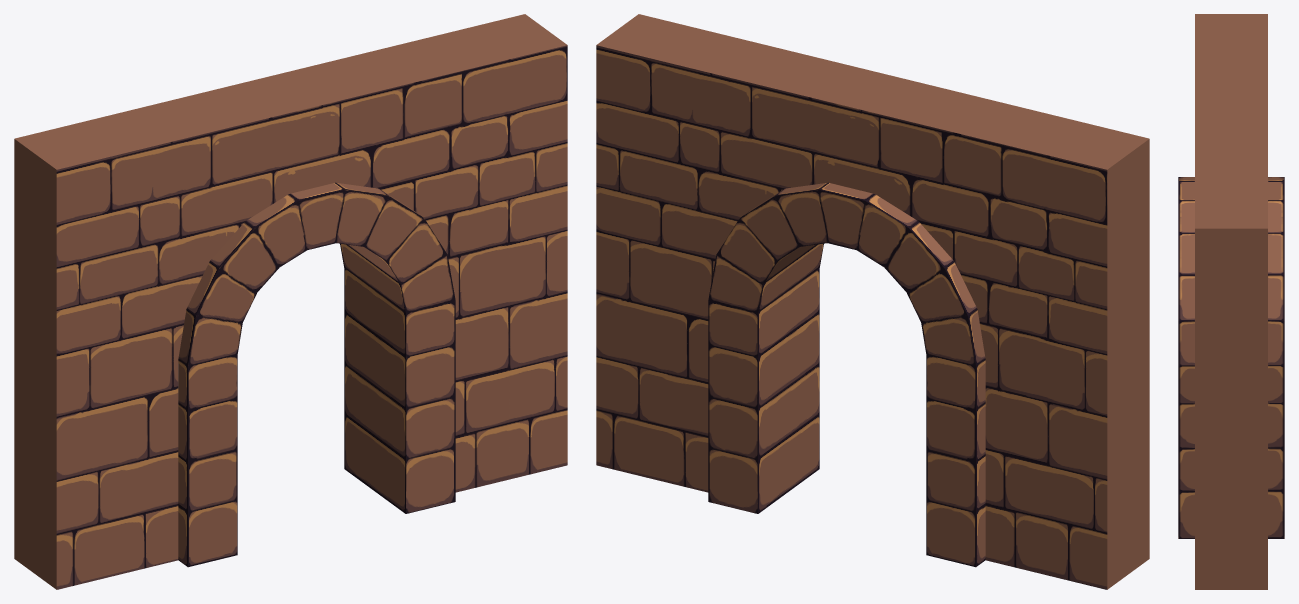
File: Arch 1.fbx
3 renders of one model, left to right at view 1: azimuth 30°, elevation 25°; view 2: azimuth 150°, elevation 25°; view 3: azimuth 270°, elevation 25°, orthographic. The views are drawn at different scales.
Parts seen in each view (by area): view 1: pPipe1; view 2: pPipe1; view 3: pPipe1.
Boxes of the visible parts, x1,y1,x2,y2 form: pPipe1: (14, 14, 567, 589); pPipe1: (596, 14, 1149, 589); pPipe1: (1178, 14, 1284, 589).
Bounding box in the file's own units: 7 × 5.5 × 1.46.
